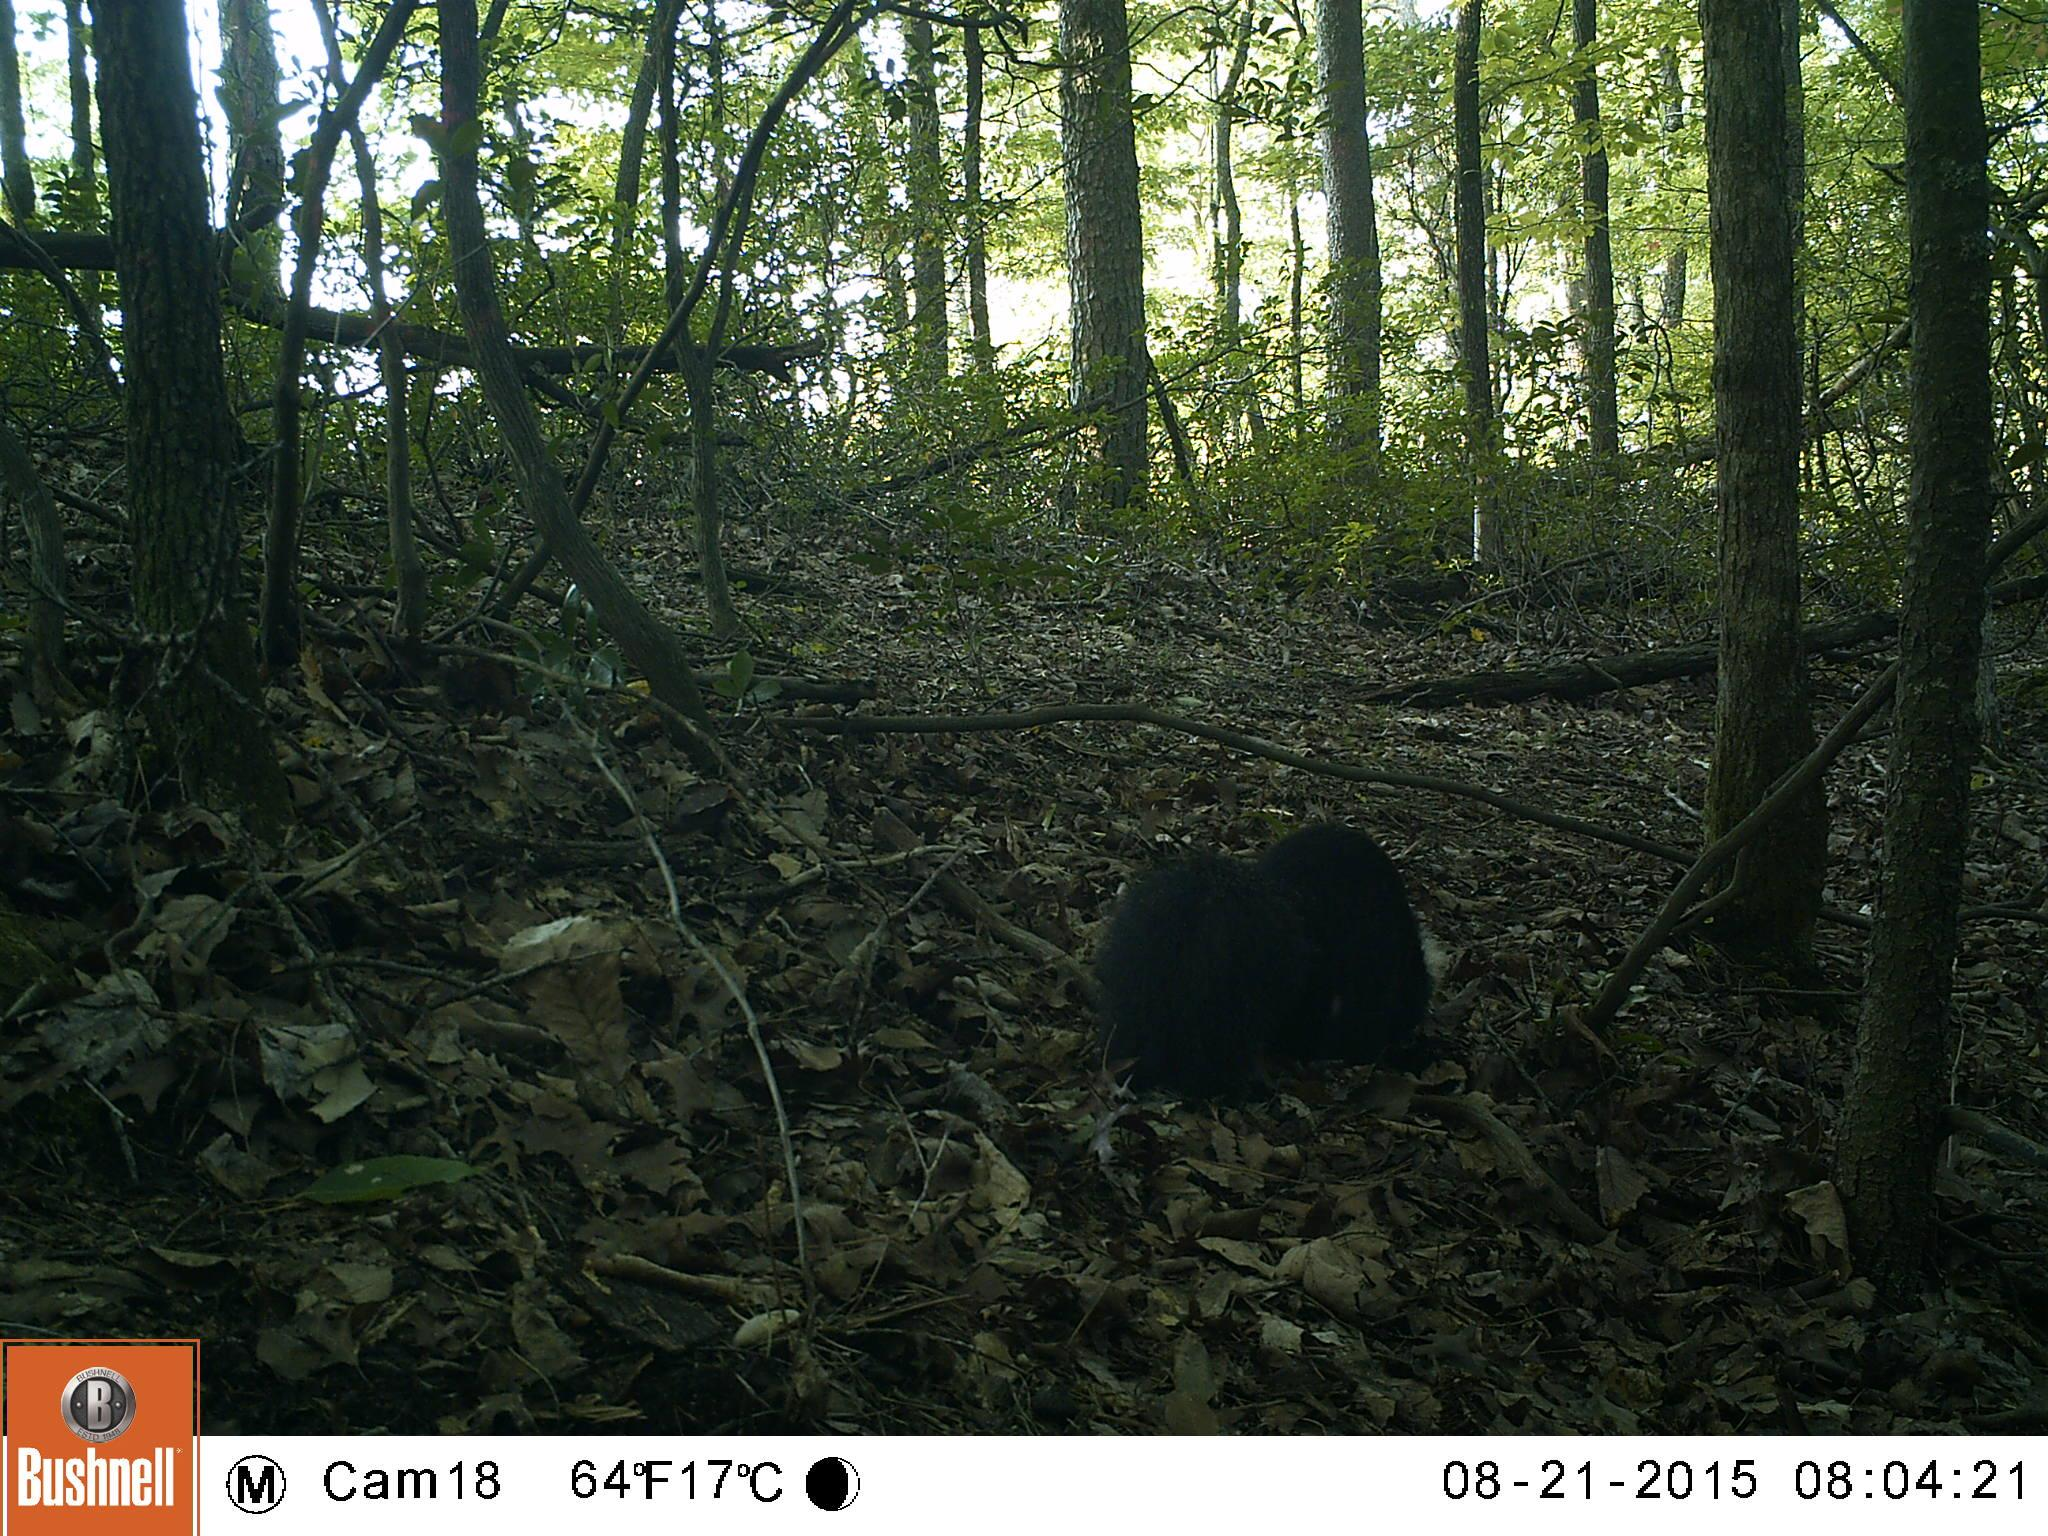Animal: (1093, 816, 1448, 1092)
